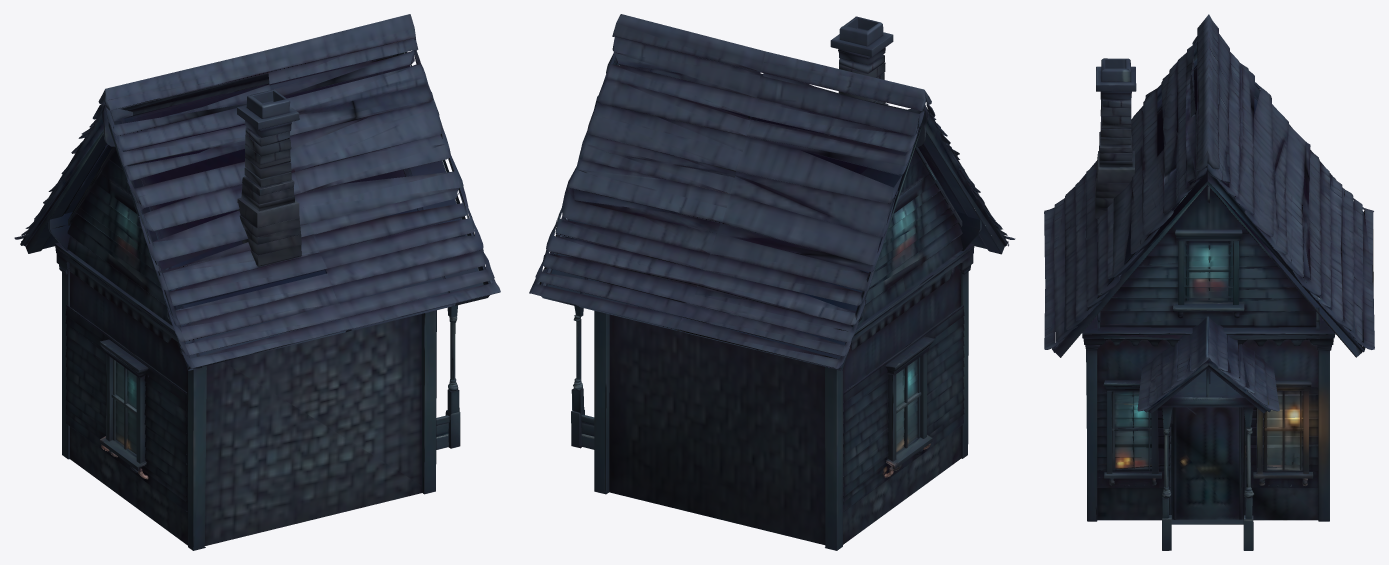
Rendered from cottage.glb.
3 views of the same model, side by side, from view 1: azimuth 30°, elevation 25°; view 2: azimuth 150°, elevation 25°; view 3: azimuth 270°, elevation 25° (orthographic). The views are drawn at different scales.
Parts seen in each view (by area): view 1: geometry_0; view 2: geometry_0; view 3: geometry_0.
Boxes of the visible parts, x1,y1,x2,y2 form: geometry_0: [14, 14, 500, 550]; geometry_0: [529, 14, 1015, 550]; geometry_0: [1044, 14, 1374, 550].
Size of the model in its own units: 0.8491 by 0.9521 by 0.7329.
Materials: 1 (1 with a texture image).
